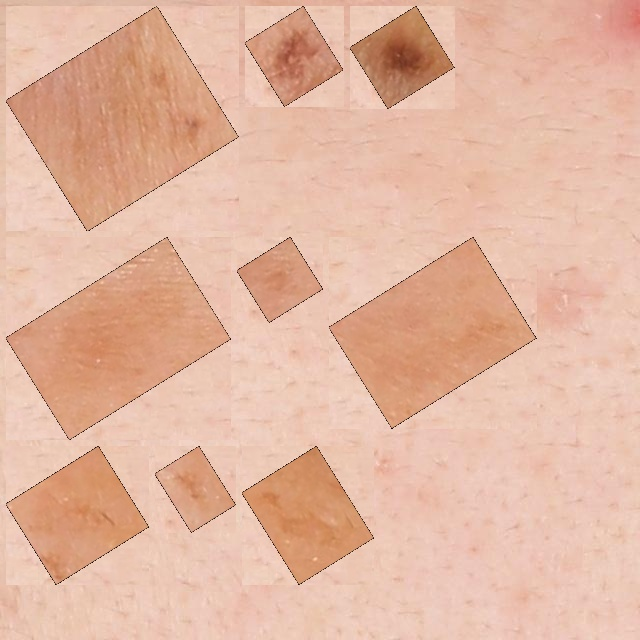melasma: (17, 17, 228, 220), (17, 248, 220, 428), (340, 248, 525, 417), (17, 457, 138, 573), (253, 457, 363, 573), (256, 17, 332, 95), (248, 248, 312, 311), (166, 457, 225, 521)
